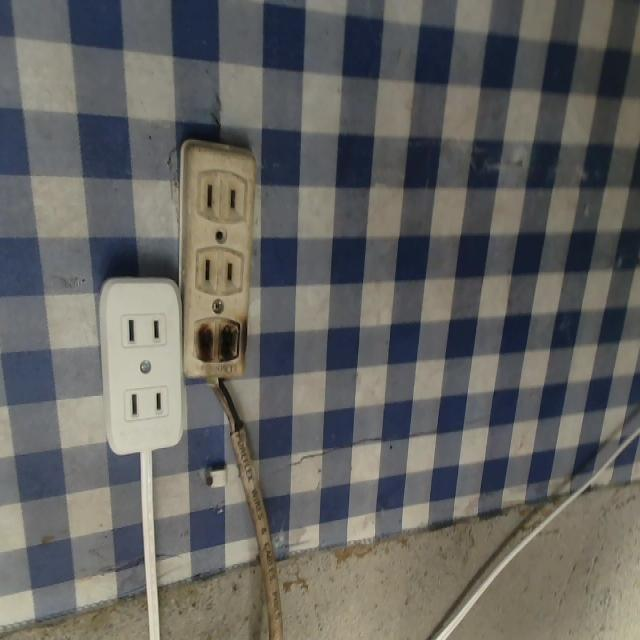-: (187, 315, 248, 369)
